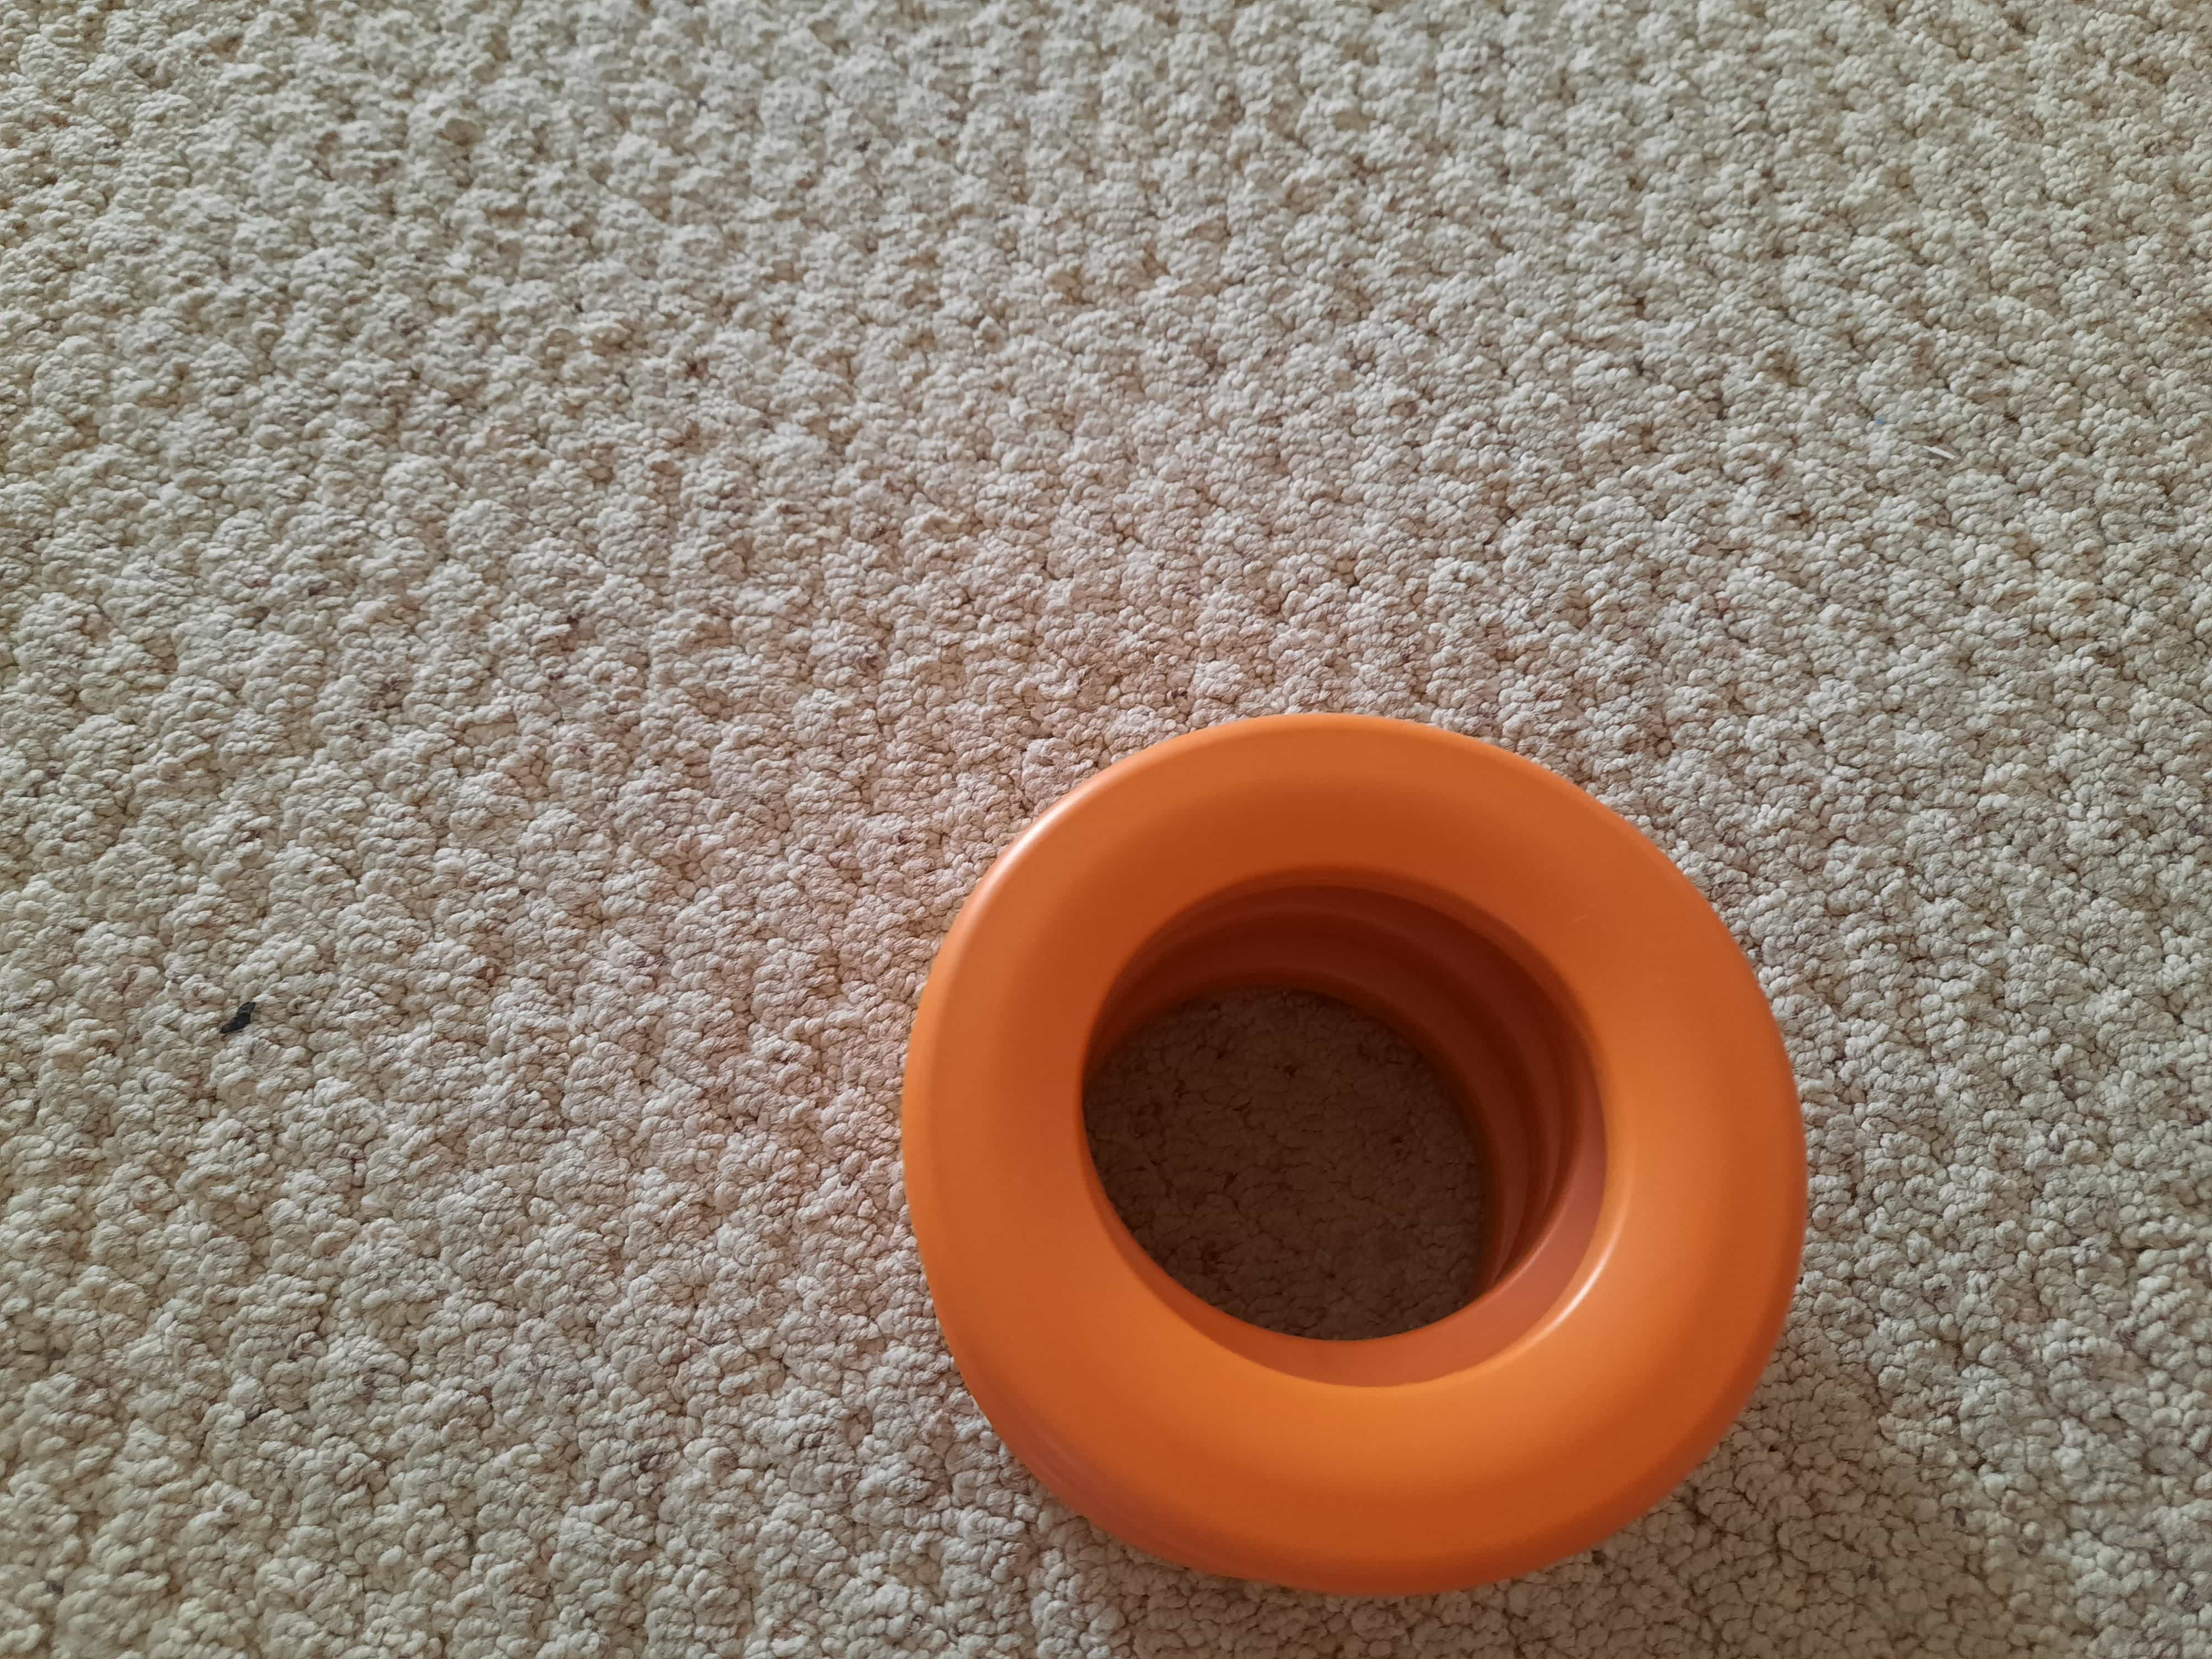FourStack: (918, 716, 1806, 1561)
